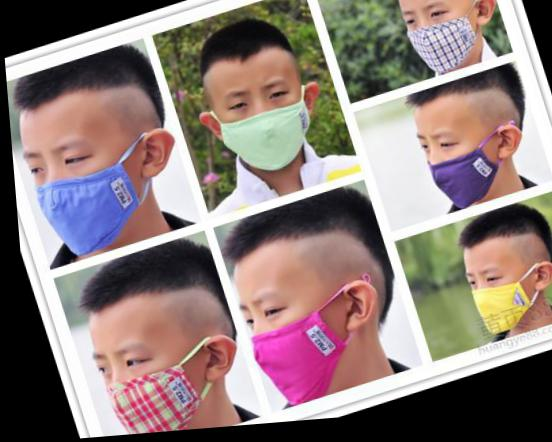OK: (13, 108, 172, 263), (223, 262, 382, 416), (77, 315, 224, 438), (206, 74, 317, 184), (396, 1, 498, 85), (456, 257, 545, 347)
WRONG: (409, 108, 529, 226)
